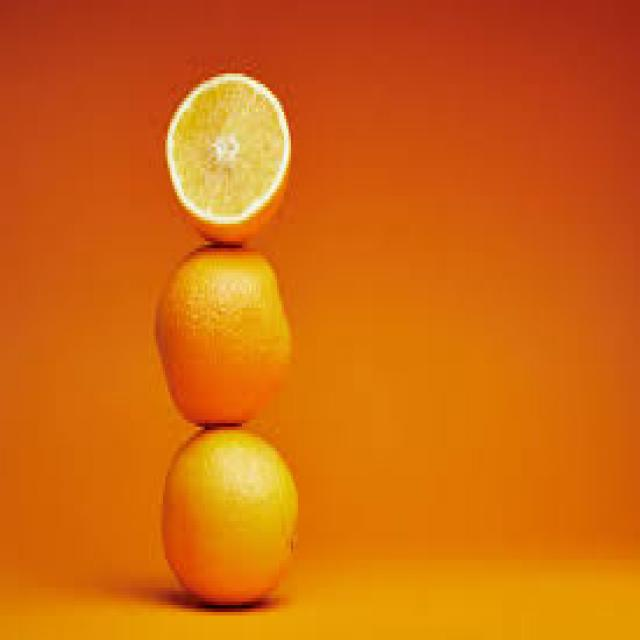orange: (151, 241, 298, 427), (156, 427, 302, 605), (163, 66, 293, 238)
